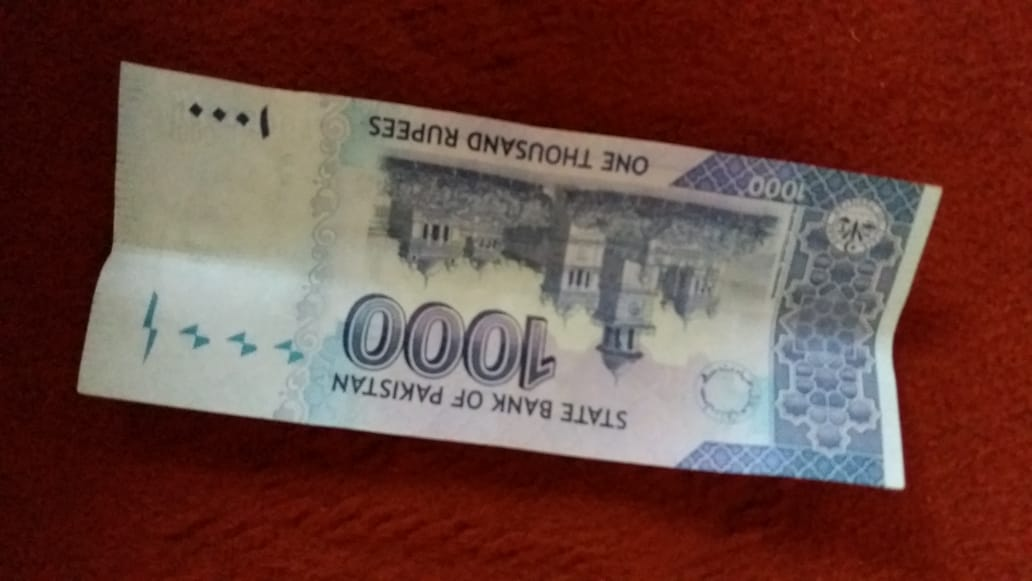1000 rupee: (35, 53, 951, 499)
